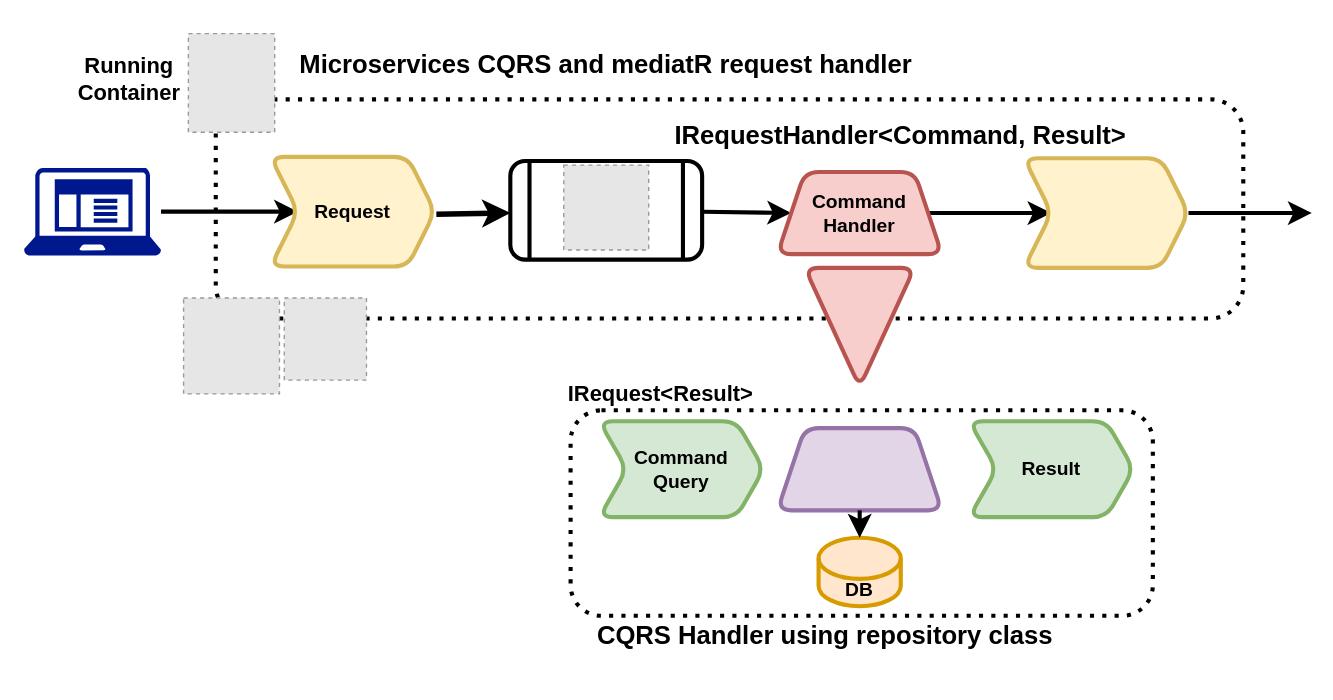
Some shapes in this 1333 by 700 pixel diagram are drawn without their labels. Grey dashed boxes stand in for pictures. The shapes that lost their labels are listed below. From the top down, each one's centre as x and y in pixels, then its label:
At [91,211]: "Client".
At [1105,212]: "Response".
At [859,468]: "Repository".
